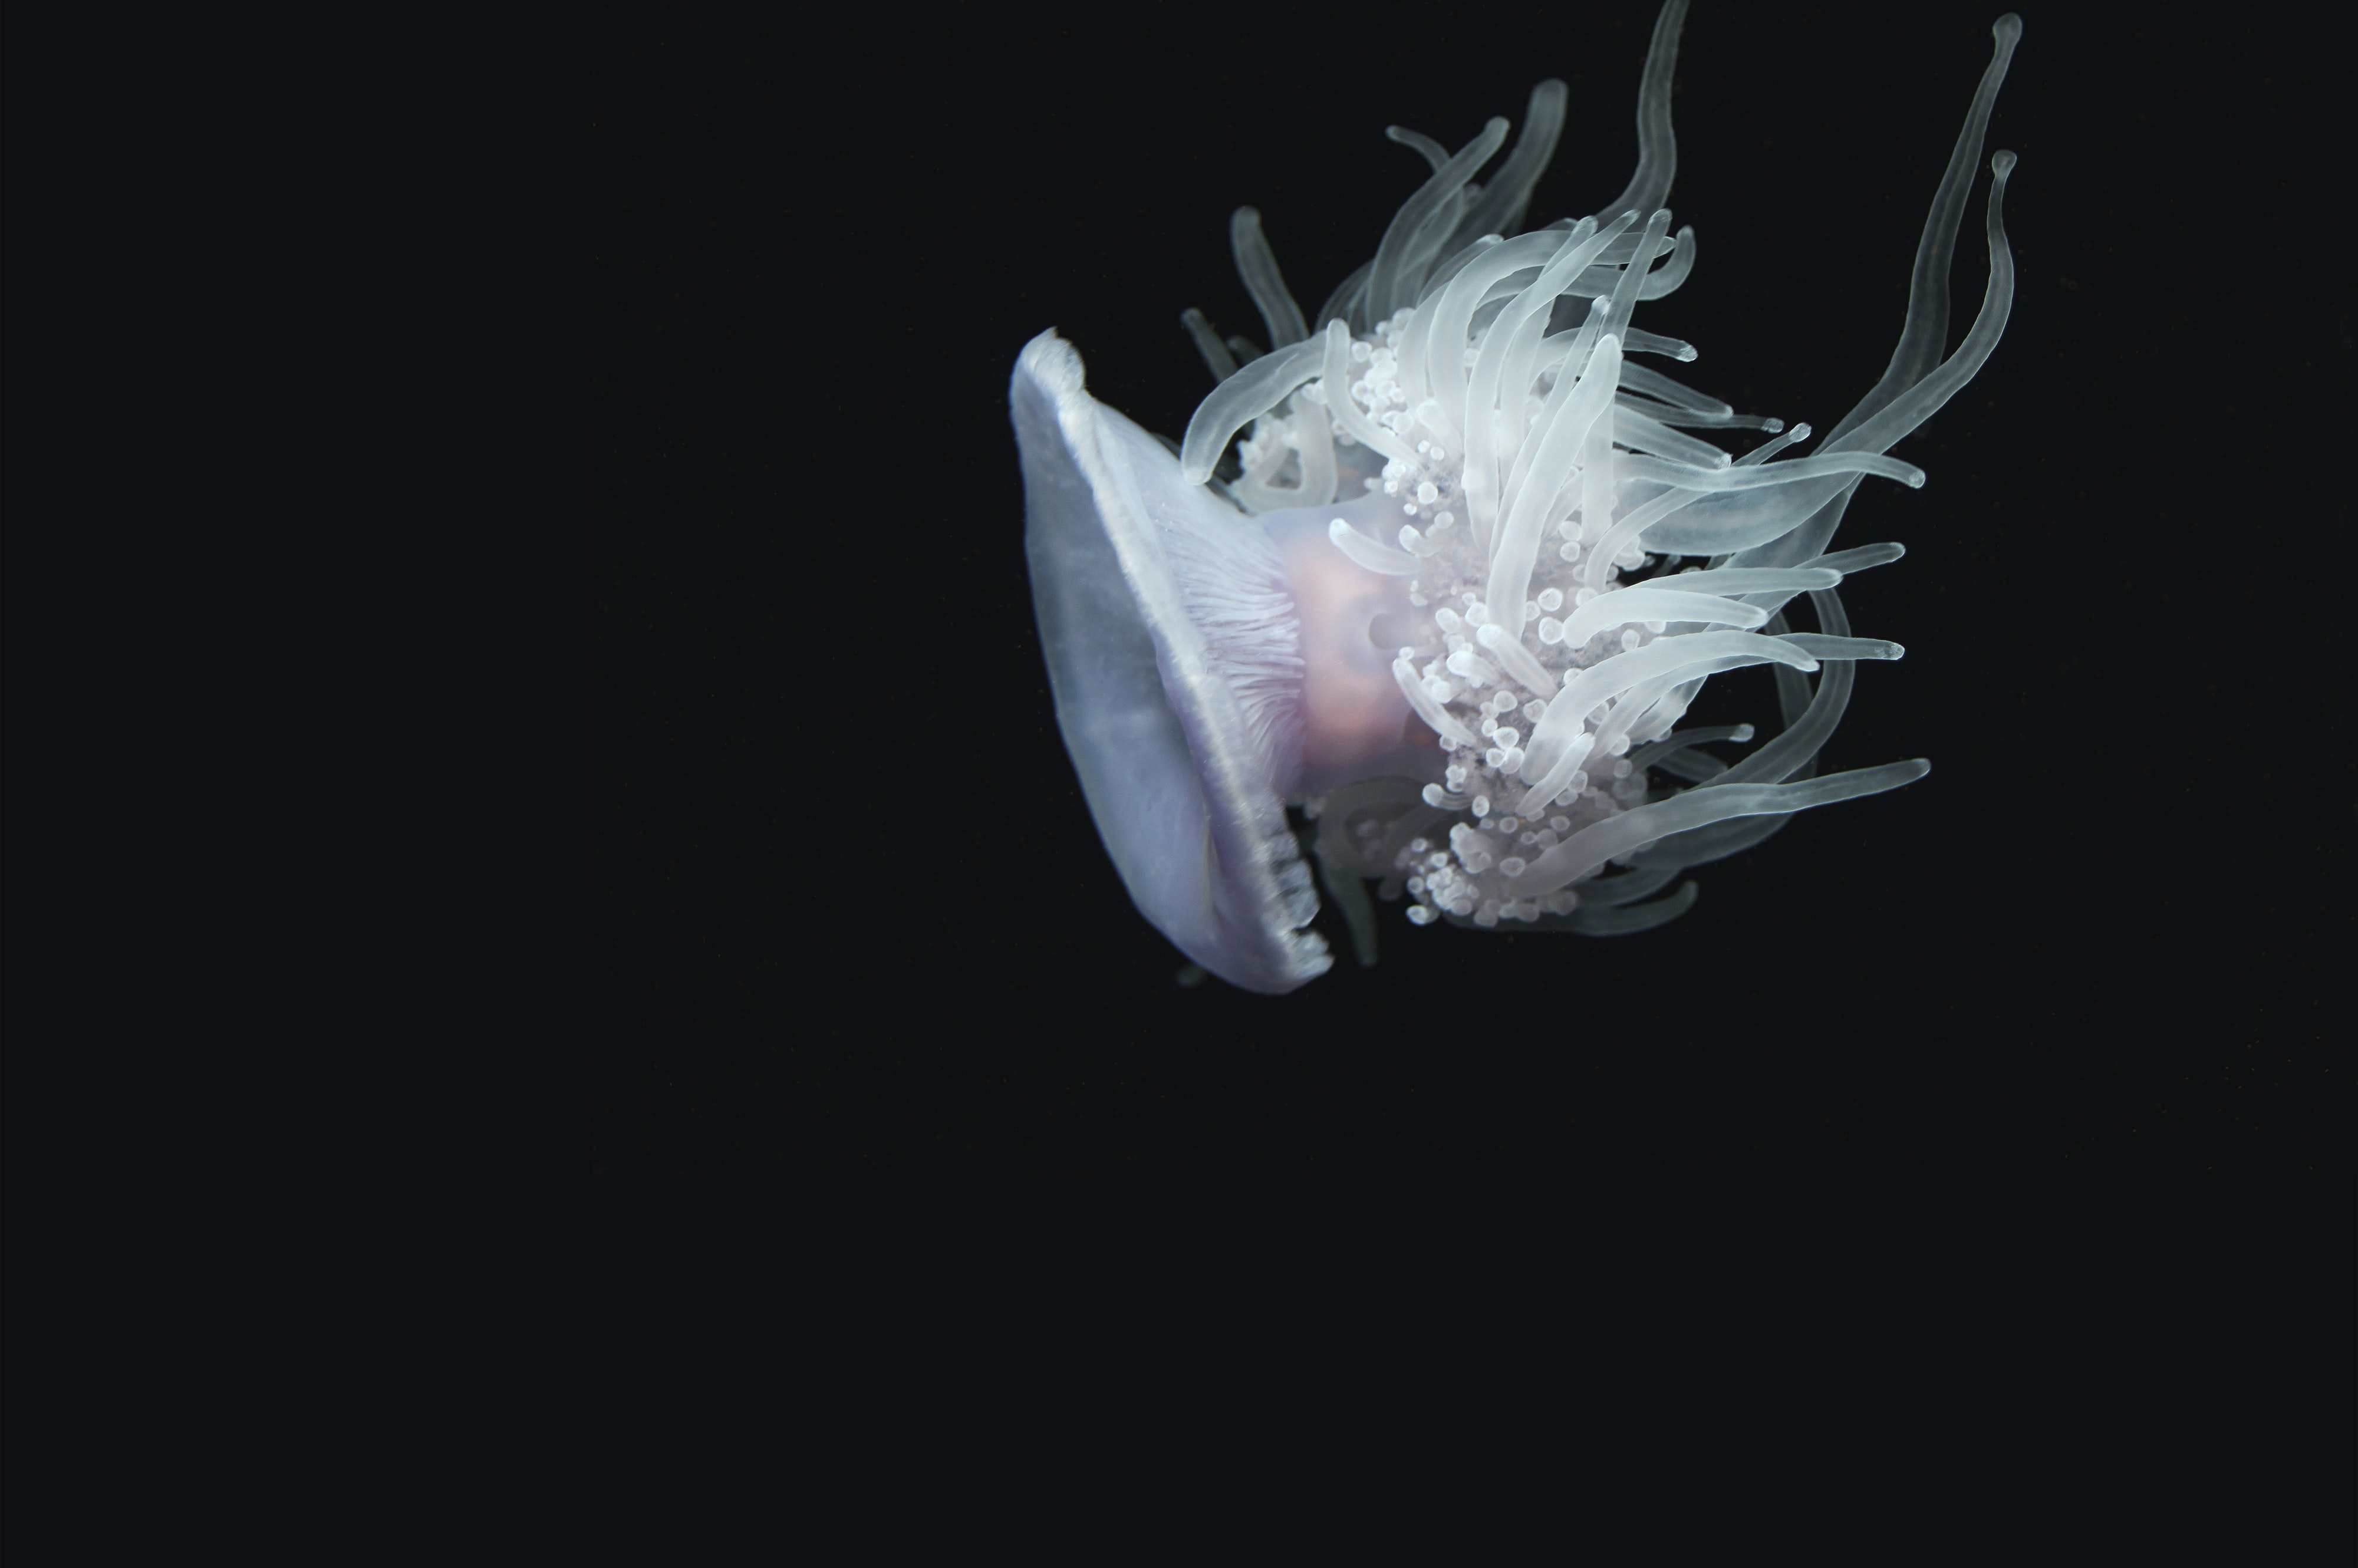jellyfish: (971, 80, 2026, 999)
